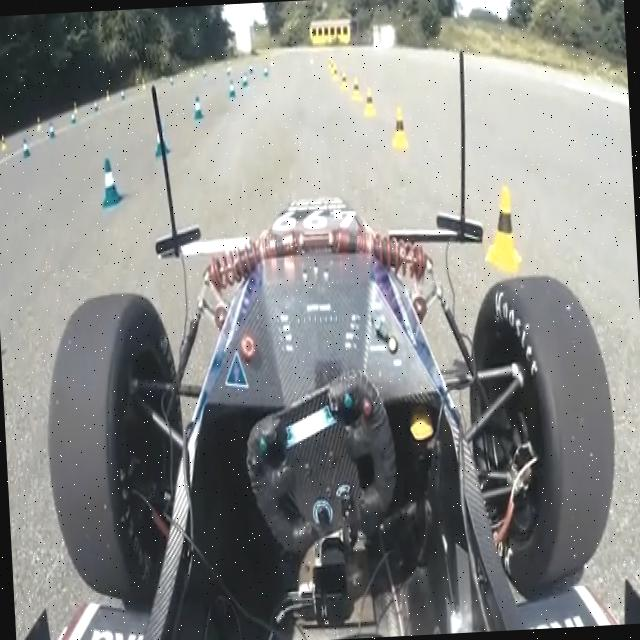blue_cone: (96, 155, 124, 209), (153, 122, 172, 156), (192, 94, 205, 120), (19, 135, 32, 160), (228, 78, 238, 100), (47, 120, 57, 140), (68, 108, 76, 126), (92, 98, 100, 112), (262, 66, 270, 80), (242, 74, 249, 88), (119, 89, 126, 102), (248, 63, 254, 74)
yellow_cone: (486, 184, 522, 274), (388, 108, 409, 152), (363, 87, 377, 116), (352, 77, 362, 100), (338, 73, 349, 92), (0, 134, 9, 151), (331, 68, 340, 82), (36, 118, 44, 132), (72, 101, 80, 114), (105, 89, 112, 102)
